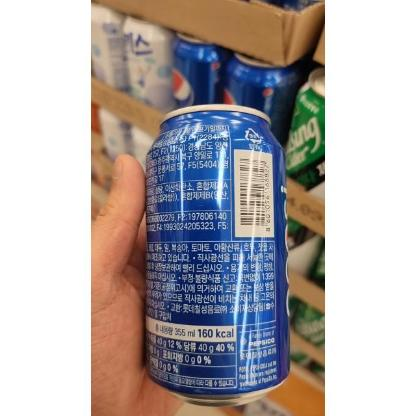Can: (143, 104, 290, 406)
